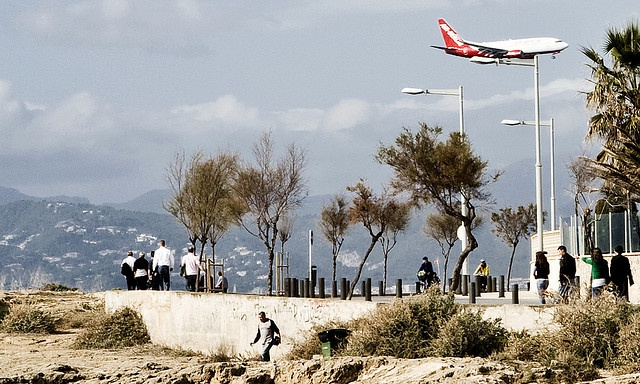non-vehicle: (416, 270, 429, 293), (476, 273, 488, 293)
